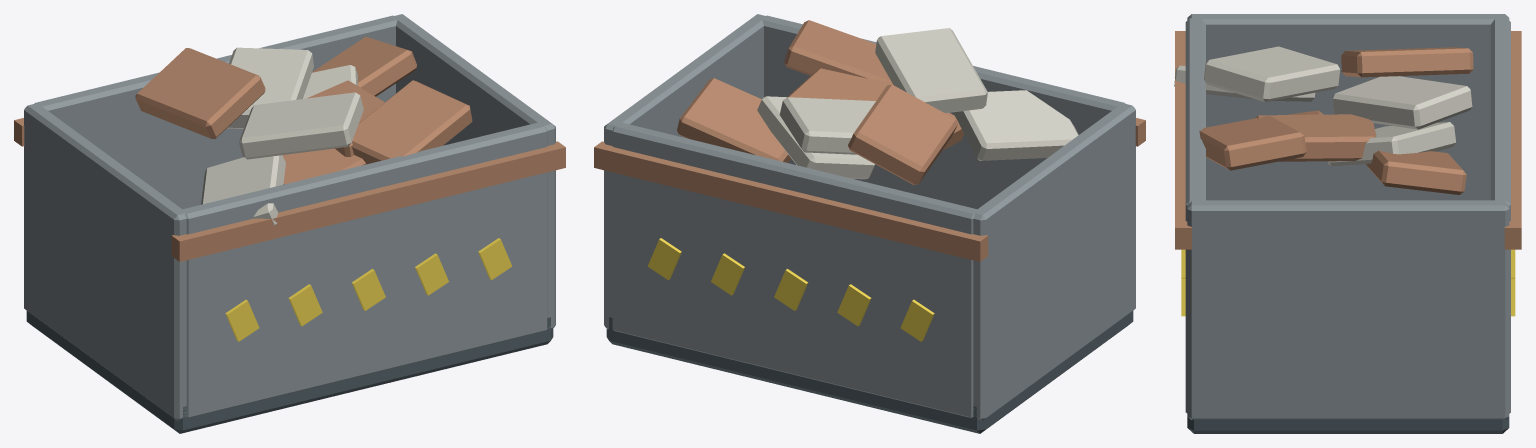
Rendered from cradle_salvage_bin.glb.
3 renders of one model, left to right at view 1: azimuth 30°, elevation 25°; view 2: azimuth 150°, elevation 25°; view 3: azimuth 270°, elevation 25°, orthographic. The views are drawn at different scales.
Visible parts, largest first — view 1: steel.003, steel, steel.002, rust.001, steel.001, darksteel, rust.005, porcelain.001, rust.006, porcelain, porcelain.002, rust.004 (+8 smaller); view 2: steel.002, steel, steel.003, rust, steel.001, darksteel, porcelain.001, rust.005, porcelain.002, rust.004, rust.006, porcelain (+7 smaller); view 3: steel.001, steel, porcelain, porcelain.001, darksteel, steel.003, rust.006, steel.002, rust.005, rust.003, rust.004, rust (+3 smaller).
Boxes of the visible parts, <box> form: steel.003: <box>183,122,547,417</box>; steel: <box>24,103,186,420</box>; steel.002: <box>34,15,397,209</box>; rust.001: <box>171,141,565,261</box>; steel.001: <box>393,14,555,329</box>; darksteel: <box>26,311,553,433</box>; rust.005: <box>135,48,265,138</box>; porcelain.001: <box>239,92,363,159</box>; rust.006: <box>352,80,472,164</box>; porcelain: <box>227,47,313,128</box>; porcelain.002: <box>201,155,285,225</box>; rust.004: <box>312,36,416,96</box>; steel.002: <box>612,122,976,417</box>; steel: <box>973,103,1135,420</box>; steel.003: <box>761,15,1125,209</box>; rust: <box>594,141,988,261</box>; steel.001: <box>604,14,766,329</box>; darksteel: <box>606,311,1133,433</box>; porcelain.001: <box>875,28,987,113</box>; rust.005: <box>848,84,957,184</box>; porcelain.002: <box>953,90,1078,160</box>; rust.004: <box>677,78,791,162</box>; rust.006: <box>784,20,891,81</box>; porcelain: <box>779,97,875,154</box>; steel.001: <box>1187,200,1509,420</box>; steel: <box>1187,14,1509,200</box>; porcelain: <box>1332,76,1472,129</box>; porcelain.001: <box>1204,46,1340,102</box>; darksteel: <box>1187,417,1509,433</box>; steel.003: <box>1185,18,1205,413</box>; rust.006: <box>1199,115,1306,170</box>; steel.002: <box>1490,18,1510,413</box>; rust.005: <box>1341,47,1473,77</box>; rust.003: <box>1255,114,1376,161</box>; rust.004: <box>1366,150,1466,194</box>; rust: <box>1504,31,1521,249</box>.
Size of the model in its own units: 2.75 by 1.8 by 2.05.
